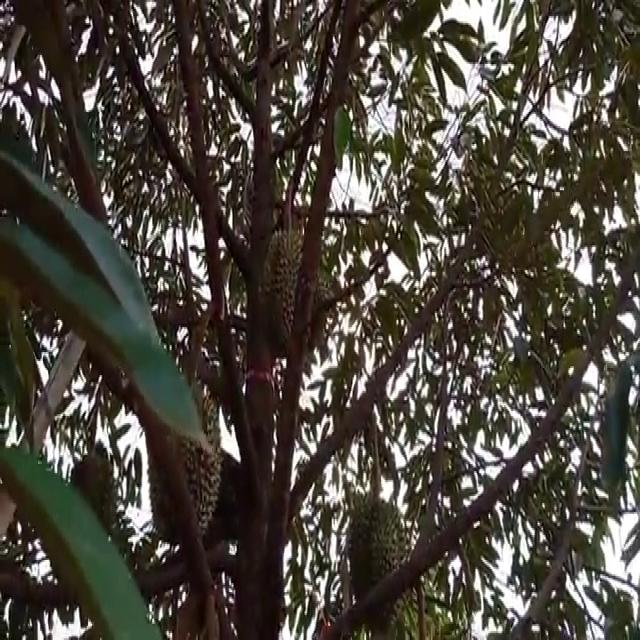durian: (138, 367, 230, 554), (342, 489, 418, 638), (252, 216, 322, 364)
